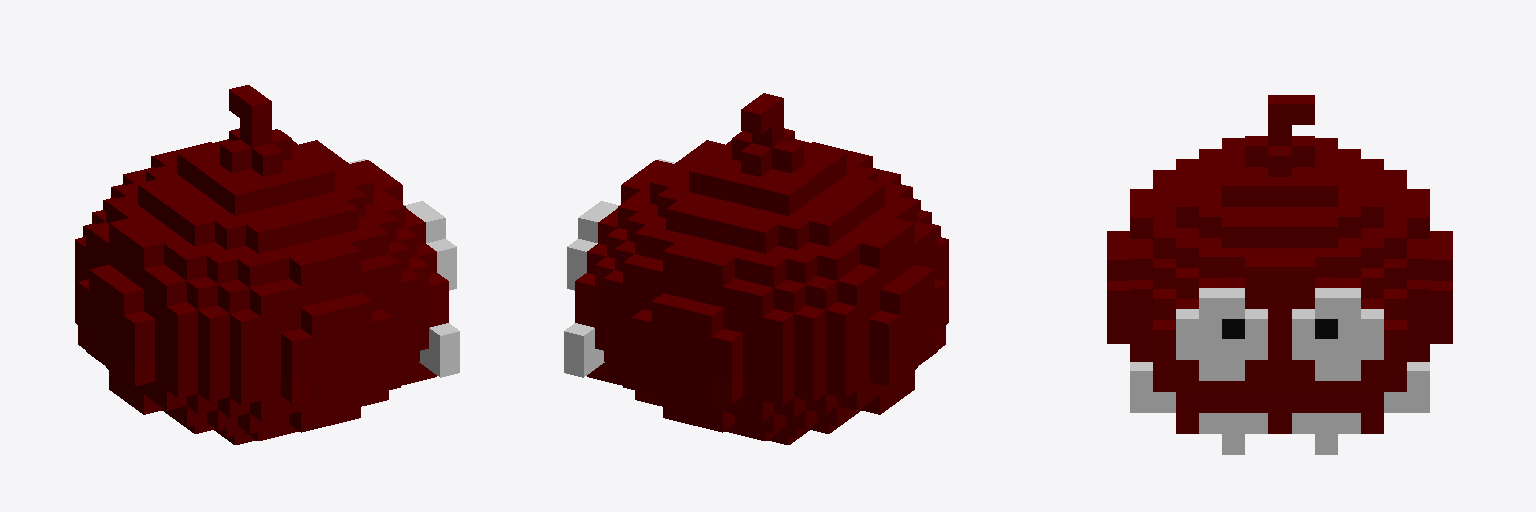
The picture shows the model from 3 angles: view 1: azimuth 30°, elevation 25°; view 2: azimuth 150°, elevation 25°; view 3: azimuth 270°, elevation 25°; orthographic projection.
Visible parts, largest first — view 1: object 1; view 2: object 1; view 3: object 1.
Boxes of the visible parts, <box> form: object 1: <box>75,85,459,444</box>; object 1: <box>564,93,948,444</box>; object 1: <box>1107,95,1452,454</box>.
Bounding box in the file's own units: 1.5 × 1.5 × 1.5.
1 materials, 1 textured.